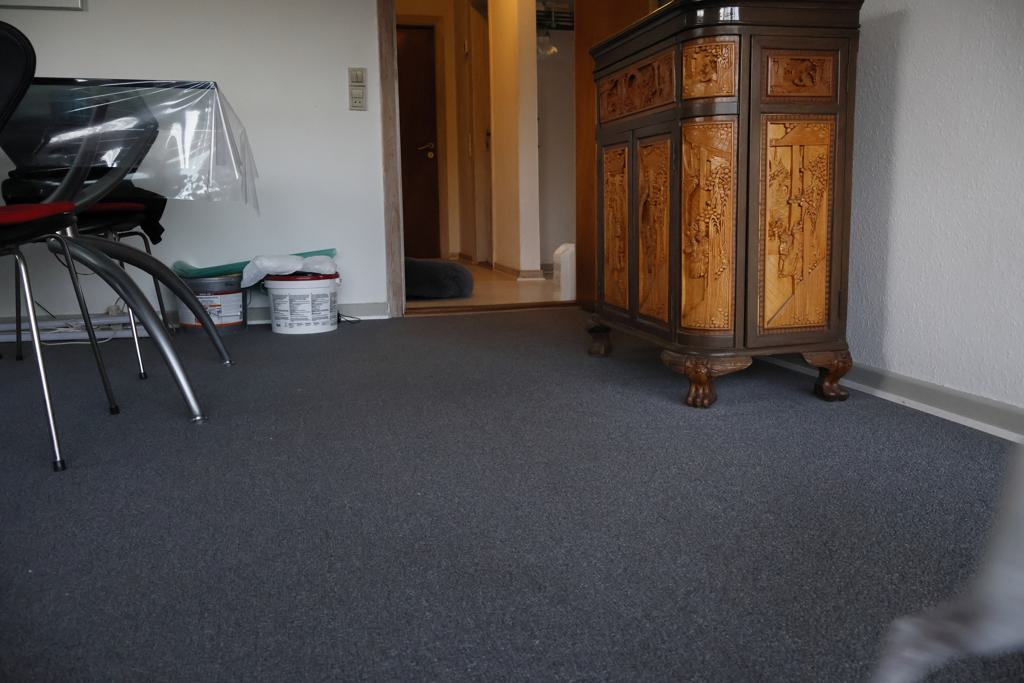Dog: (857, 433, 1024, 683)
